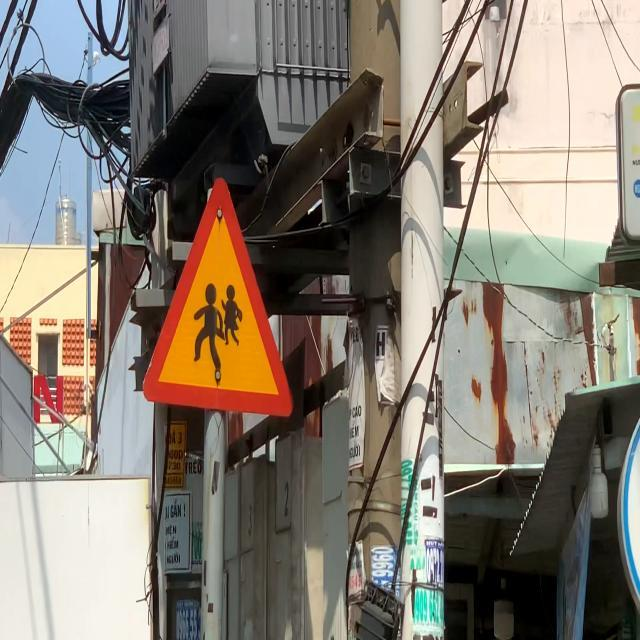W-225: (140, 177, 292, 416)
